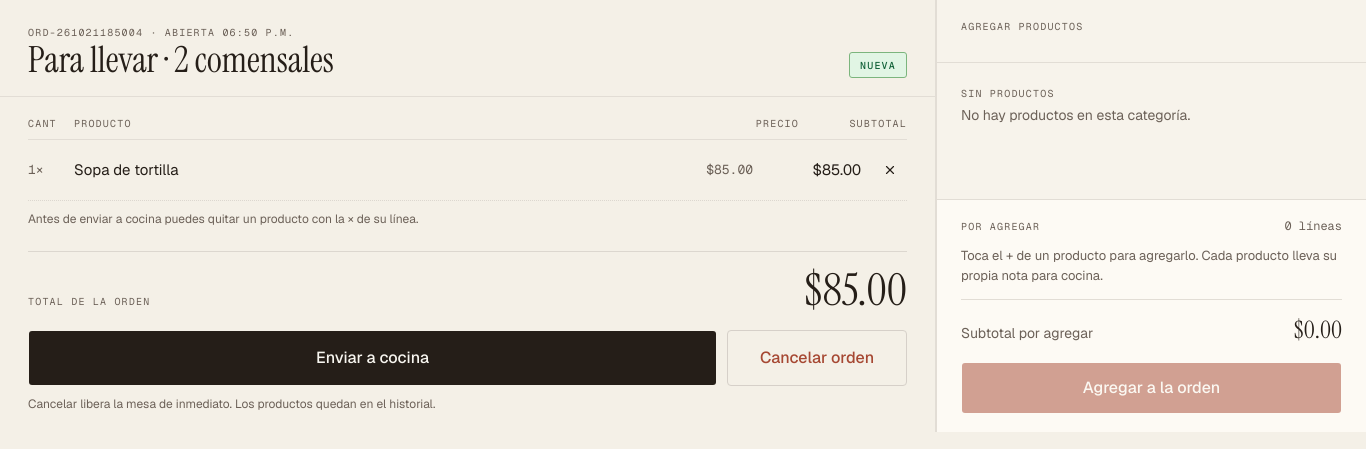
Test case: quitar un producto ya agregado (CAL-151) › con la orden en Nueva quita la línea y muestra el total que devuelve la API
Click the button named "Quitar Sopa de tortilla de la orden".
click(890, 170)  # box [873,153,907,187]
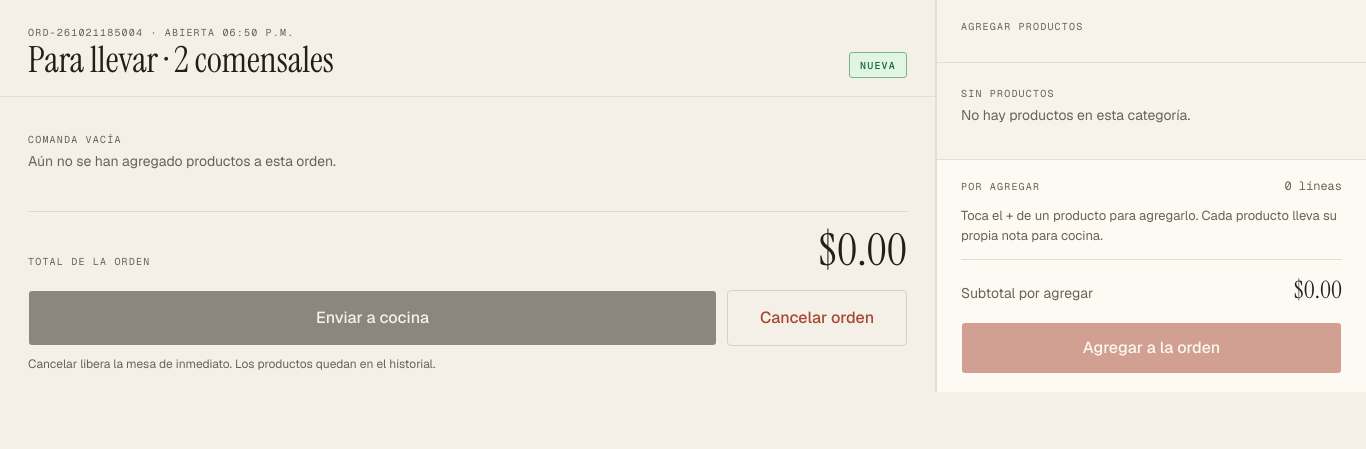
Now the text "Comanda vacía" is shown, box [28,133,122,146]
